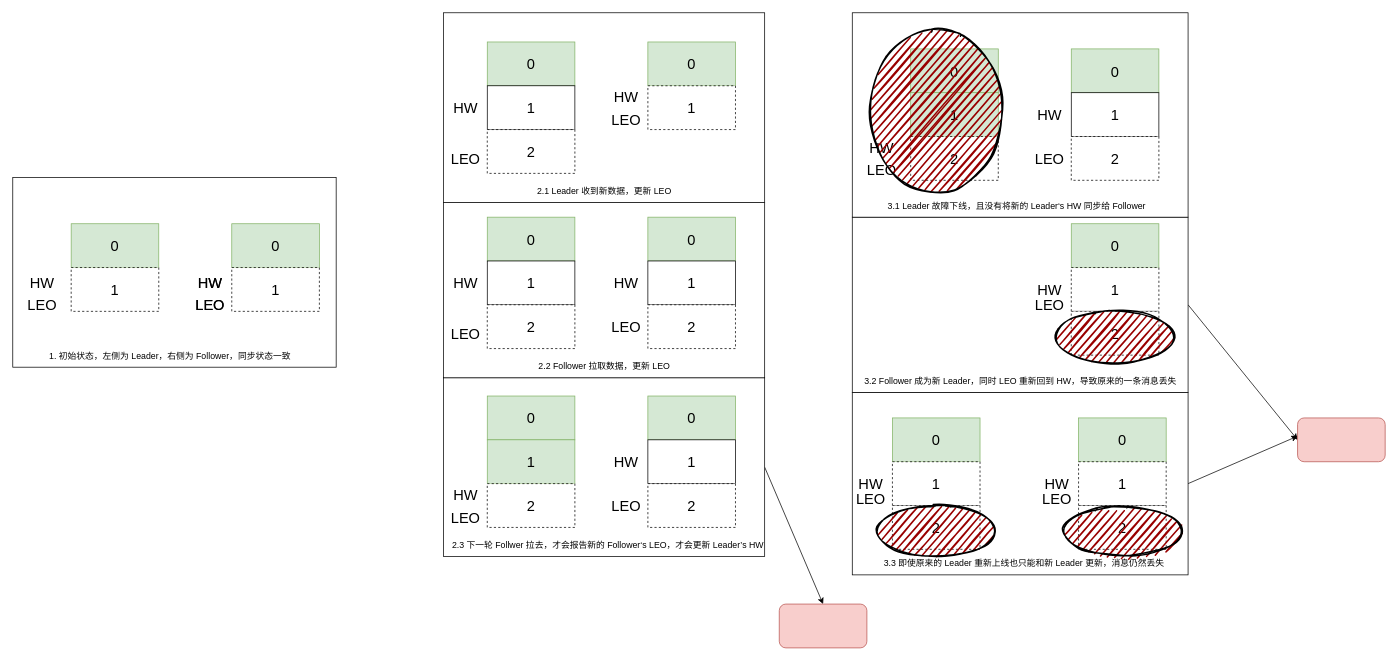
This 1398x661 diagram has some shape labels left out. The shapes that lost their labels are listed below. From the top down, each one's centre as x and y in pixels, then its label:
At point 1341,439: "消息丢失".
At point 823,625: "HW 错位".
